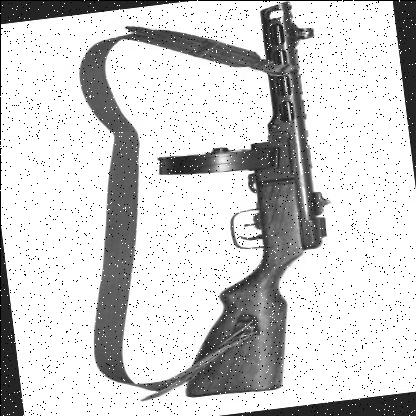rifle: (124, 0, 359, 403)
